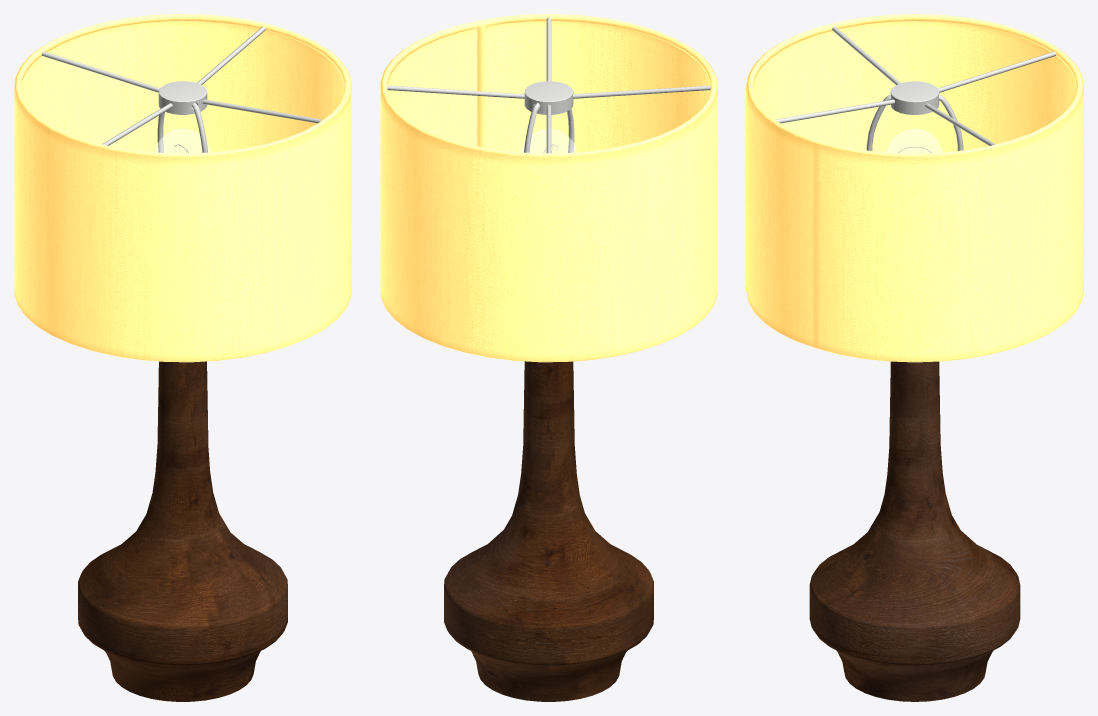
3 renders of one model, left to right at view 1: azimuth 30°, elevation 25°; view 2: azimuth 150°, elevation 25°; view 3: azimuth 270°, elevation 25°, orthographic.
Parts seen in each view (by area): view 1: lamp2a_shade, lamp2a_main, lamp2a_glass; view 2: lamp2a_shade, lamp2a_main, lamp2a_glass; view 3: lamp2a_shade, lamp2a_main, lamp2a_glass.
Part boxes in pixels (x1=…): lamp2a_shade: x1=14, y1=14, x2=351, y2=362; lamp2a_main: x1=41, y1=26, x2=322, y2=701; lamp2a_glass: x1=155, y1=128, x2=210, y2=153; lamp2a_shade: x1=380, y1=14, x2=717, y2=362; lamp2a_main: x1=387, y1=17, x2=710, y2=701; lamp2a_glass: x1=521, y1=128, x2=576, y2=153; lamp2a_shade: x1=746, y1=14, x2=1083, y2=362; lamp2a_main: x1=775, y1=26, x2=1056, y2=701; lamp2a_glass: x1=887, y1=128, x2=942, y2=153.
Size of the model in its own units: 0.3468 by 0.6667 by 0.3468.
Materials: 3 (2 with a texture image).
